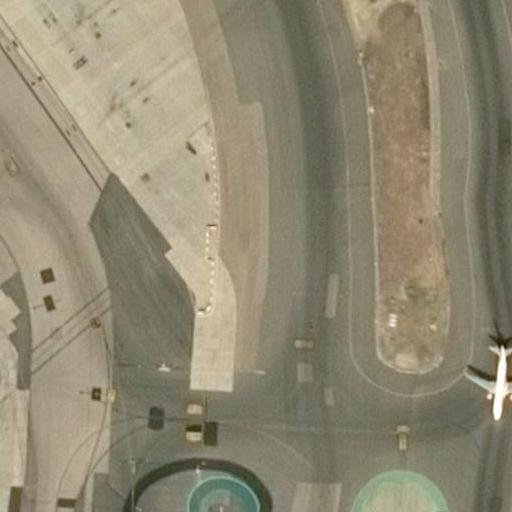Aircraft: (463, 333, 512, 423)
